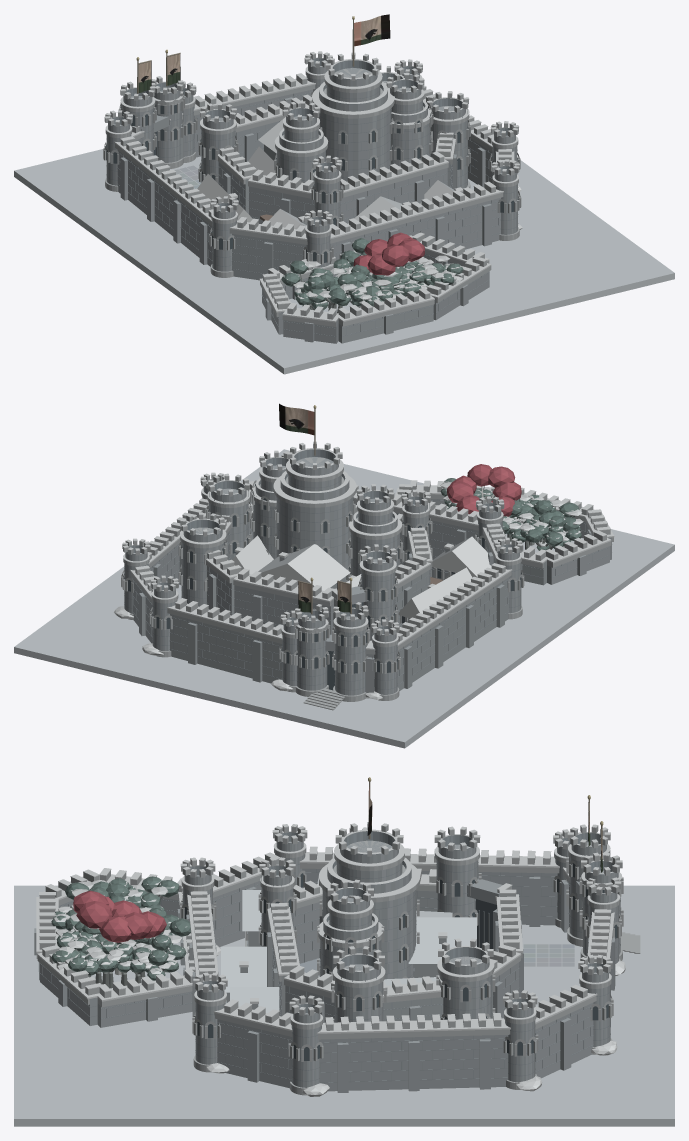
The model's file is winterfell.glb.
3 views of the same model, one above another, from view 1: azimuth 30°, elevation 25°; view 2: azimuth 150°, elevation 25°; view 3: azimuth 270°, elevation 25° (orthographic). The views are drawn at different scales.
Visible parts, largest first — view 1: وینترفل; view 2: وینترفل; view 3: وینترفل.
Boxes of the visible parts, x1=… form: وینترفل: x1=14, y1=14, x2=674, y2=374; وینترفل: x1=14, y1=403, x2=674, y2=748; وینترفل: x1=14, y1=777, x2=674, y2=1126.
Size of the model in its own units: 13.2 by 6.44 by 15.8.
2 materials, 1 textured.
